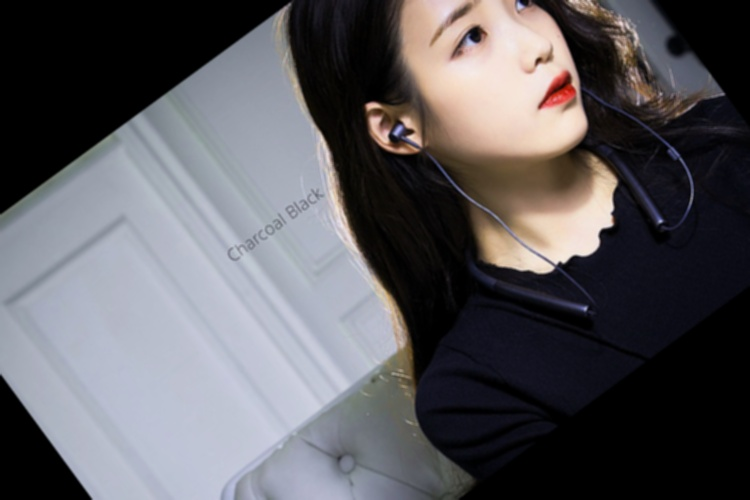earphone: (352, 86, 433, 174)
